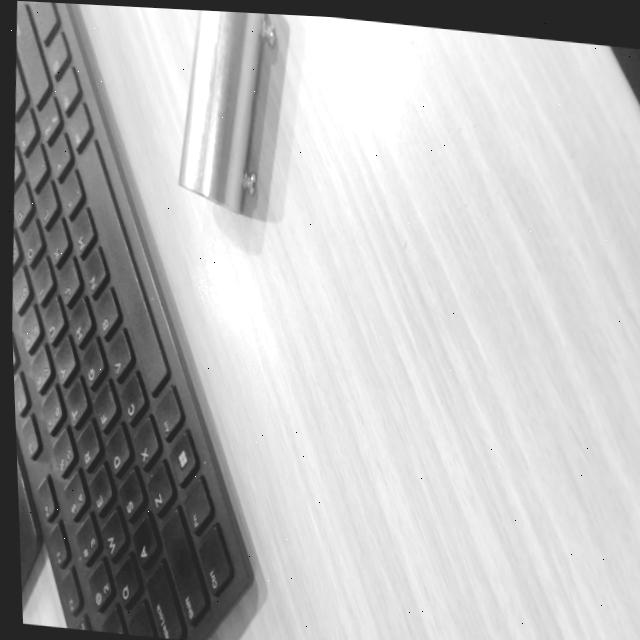Co_Lon: (176, 8, 267, 215)
